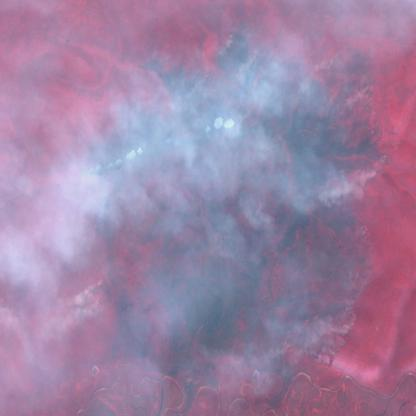fire: (81, 23, 391, 366)
